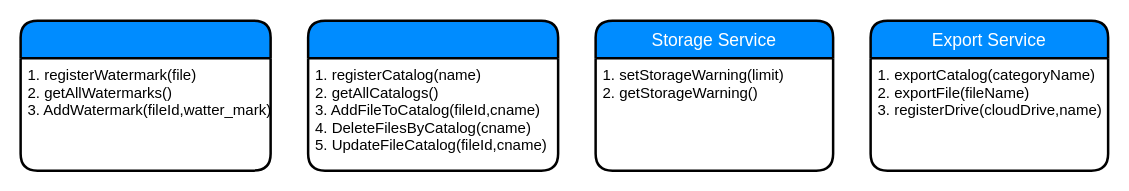
This 1129x191 diagram has some shape labels left out. Here are the shapes that lost their labels. From the top down, the box of each, then its label:
(19, 19, 271, 171): Watermark Service
(306, 19, 559, 171): Catalog Service
